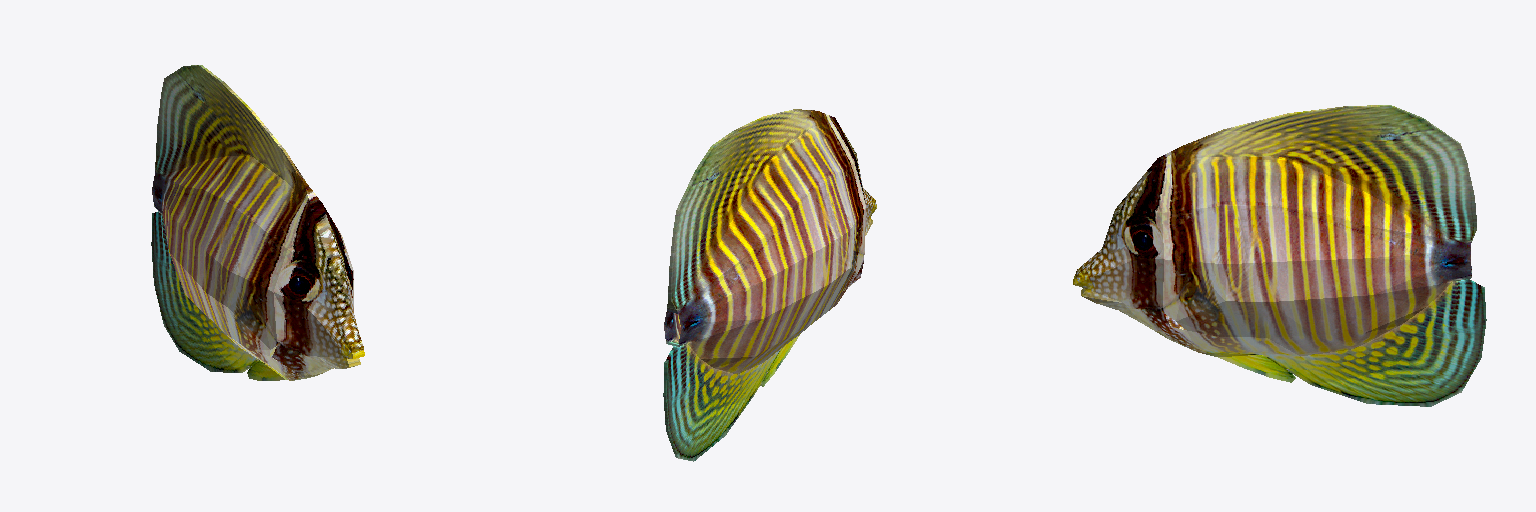
The picture shows the model from 3 angles: view 1: azimuth 30°, elevation 25°; view 2: azimuth 150°, elevation 25°; view 3: azimuth 270°, elevation 25°; orthographic projection.
Visible parts, largest first — view 1: TropicalFish01_TropicalFish01; view 2: TropicalFish01_TropicalFish01; view 3: TropicalFish01_TropicalFish01.
Boxes of the visible parts, x1,y1,x2,y2 form: TropicalFish01_TropicalFish01: [151, 65, 364, 380]; TropicalFish01_TropicalFish01: [663, 109, 876, 461]; TropicalFish01_TropicalFish01: [1073, 105, 1486, 406].
Bounding box in the file's own units: 0.944 × 2.45 × 3.05.
1 materials, 1 textured.